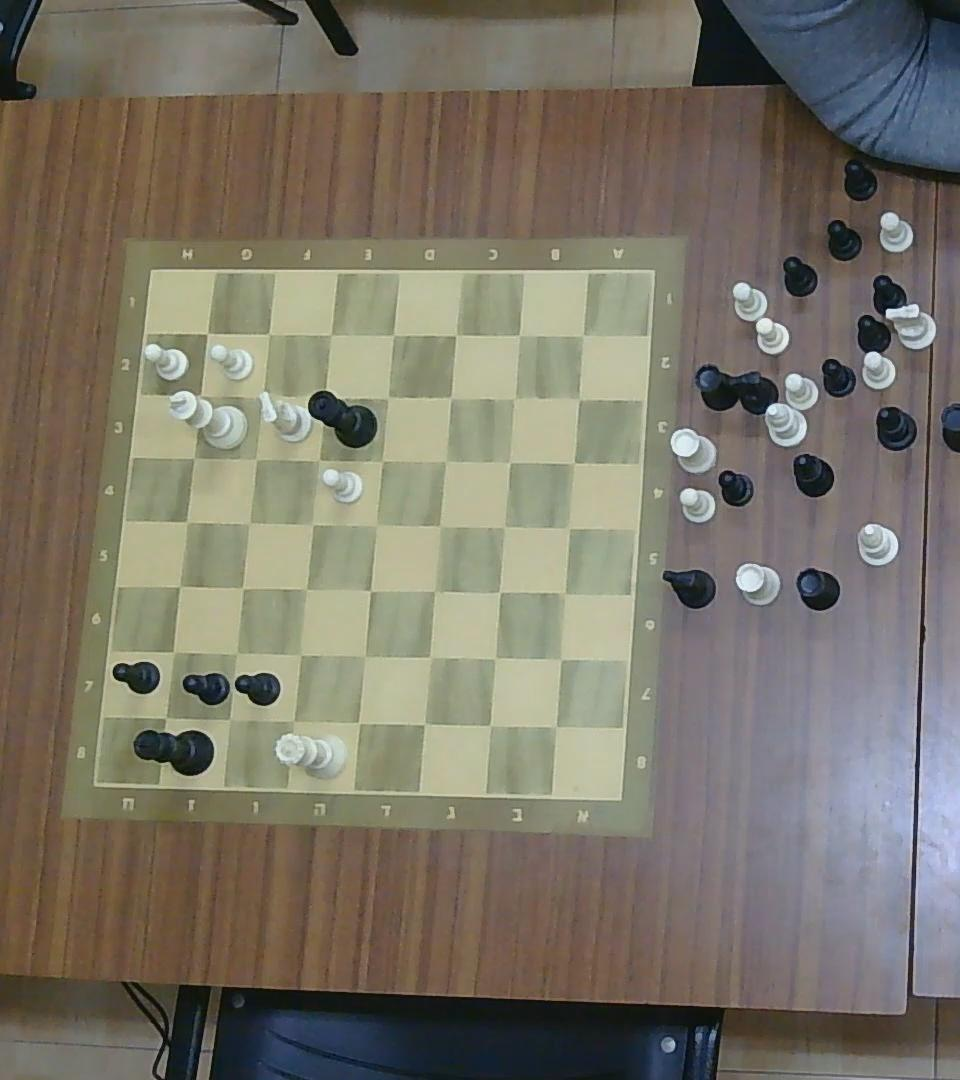xcorner: (477, 712, 503, 738), (543, 714, 569, 739), (246, 382, 272, 407), (412, 711, 437, 736), (418, 645, 442, 670), (482, 647, 506, 671), (347, 710, 371, 734), (288, 642, 311, 666), (353, 644, 376, 668), (281, 709, 305, 731), (154, 706, 178, 728), (439, 387, 461, 408), (218, 708, 240, 729), (549, 648, 571, 668), (319, 324, 341, 344), (188, 386, 210, 406), (429, 514, 449, 535), (225, 642, 245, 663), (423, 581, 443, 602), (296, 577, 315, 599), (366, 514, 386, 534), (372, 450, 392, 470), (445, 325, 465, 345), (559, 518, 579, 538), (499, 450, 518, 471), (170, 576, 189, 597), (184, 447, 203, 467), (435, 450, 454, 470), (378, 388, 397, 408), (489, 582, 508, 602), (198, 322, 217, 342), (260, 324, 279, 344), (177, 511, 196, 531), (247, 449, 266, 468), (240, 513, 259, 532), (555, 584, 574, 603), (384, 326, 403, 345), (303, 514, 321, 534), (495, 516, 513, 536), (309, 450, 327, 470), (315, 386, 333, 406), (361, 581, 380, 599), (165, 643, 183, 662), (233, 579, 251, 598), (565, 453, 583, 471), (505, 389, 523, 406), (511, 327, 529, 344), (573, 327, 591, 344), (572, 390, 588, 406)
